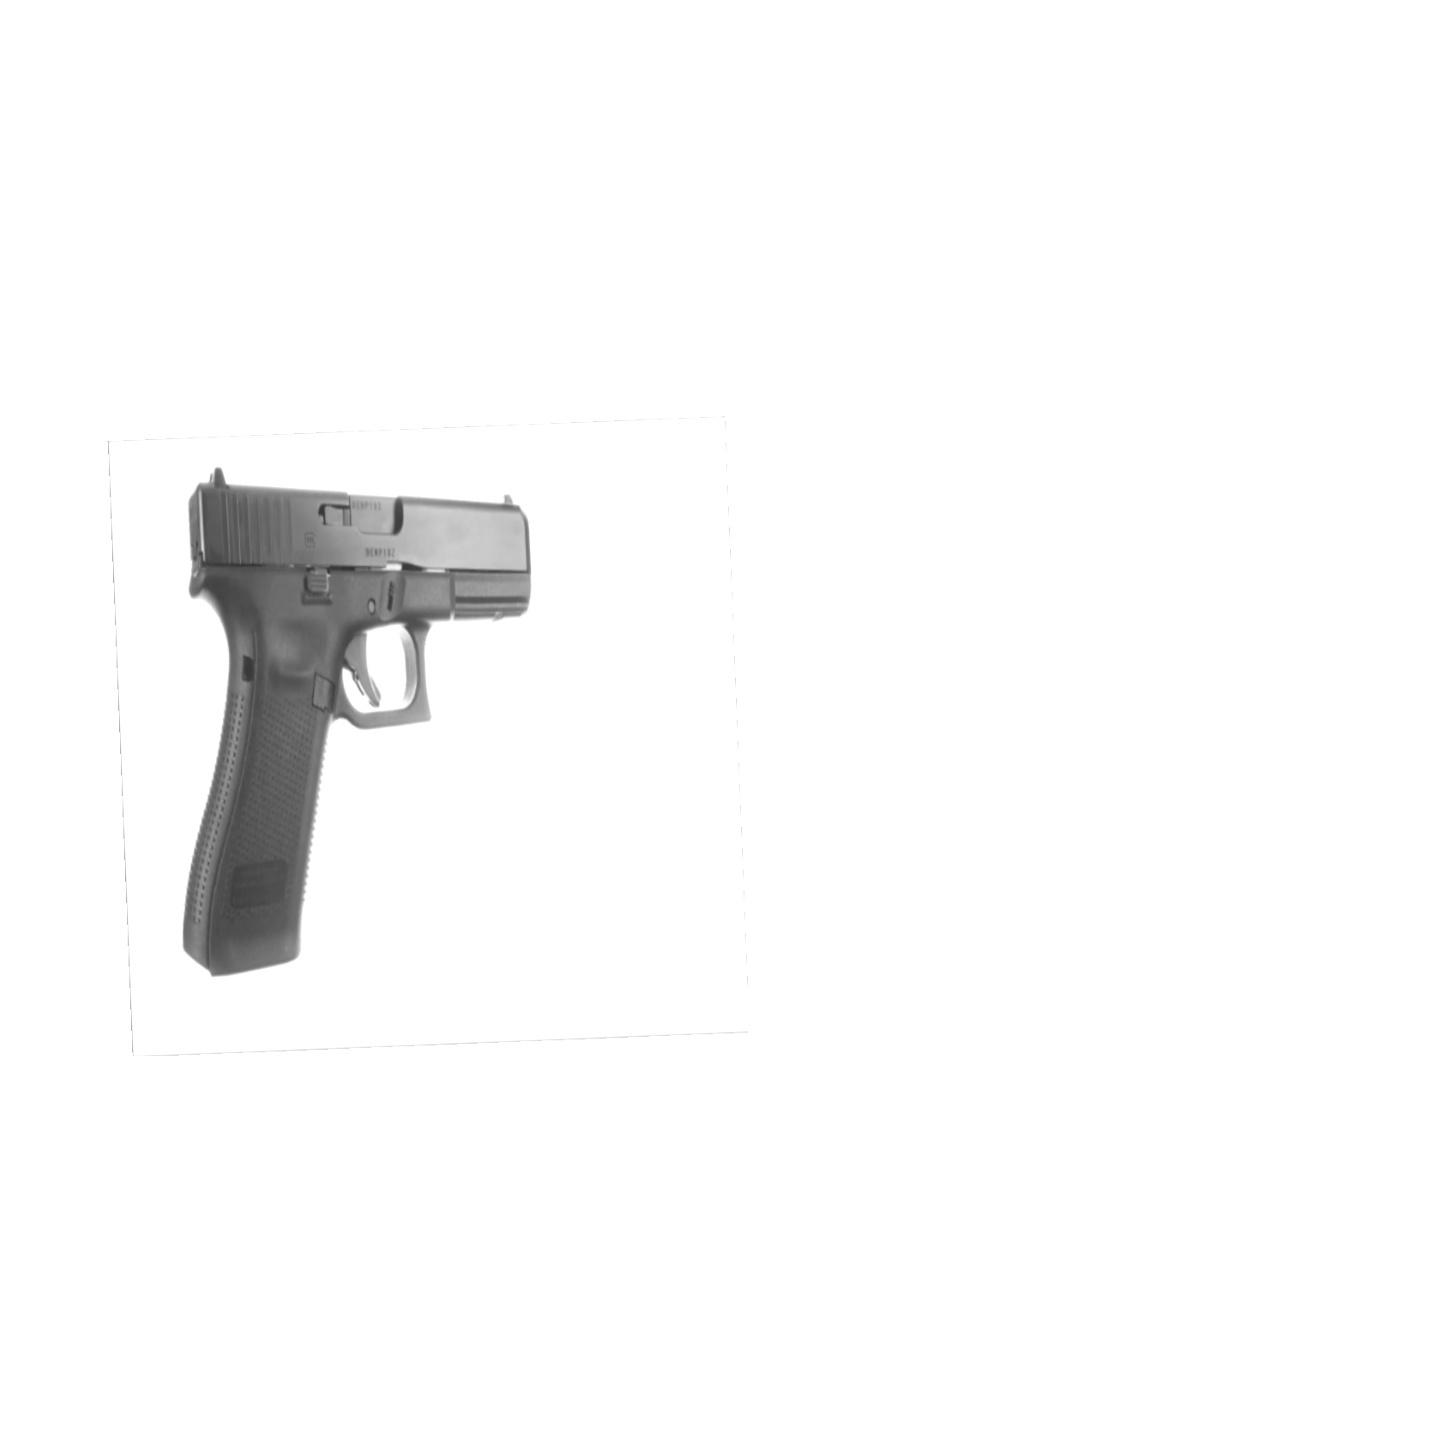gun: (176, 464, 536, 982)
